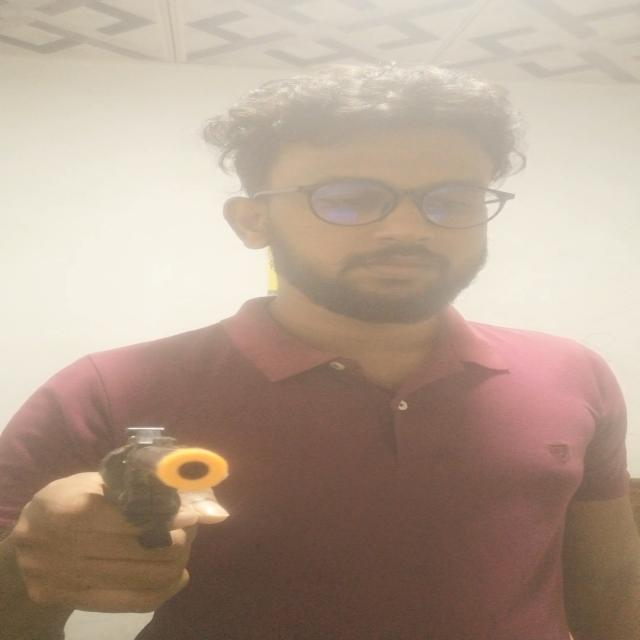Gun_Holder: (15, 404, 332, 638)
Person: (1, 52, 640, 640)
